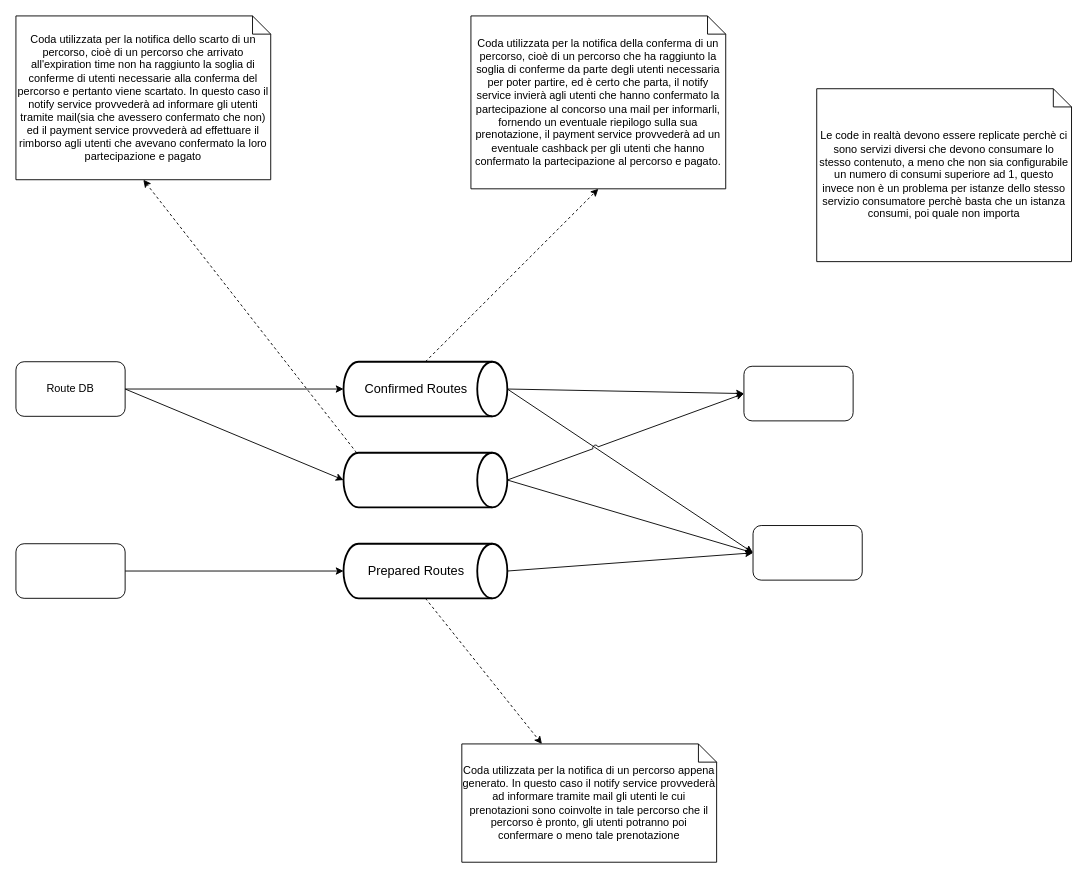
The diagram is 1087 pixels wide and 878 high, and some of its shapes have lost their labels. Each missing label, with the box of its shape:
Booking Service: (15, 543, 125, 598)
Notify Service: (752, 525, 862, 580)
Payment Service: (743, 365, 853, 421)
Rejected Routes: (342, 451, 508, 508)
